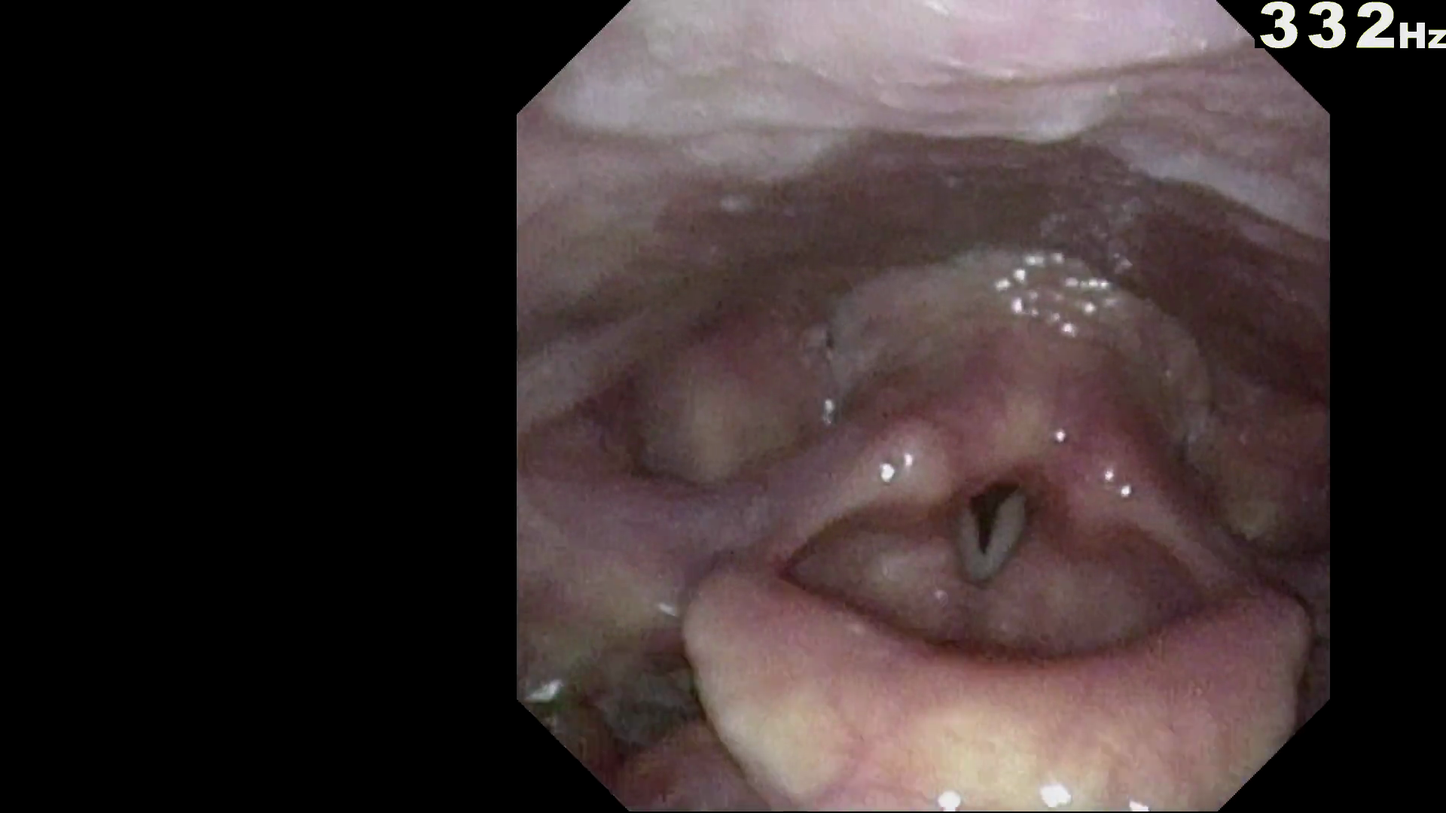epiglottis: (686, 521, 1309, 802)
trachea: (901, 418, 1074, 636)
